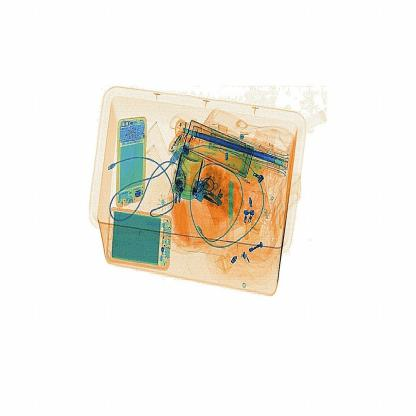pliers: (219, 174, 239, 244)
